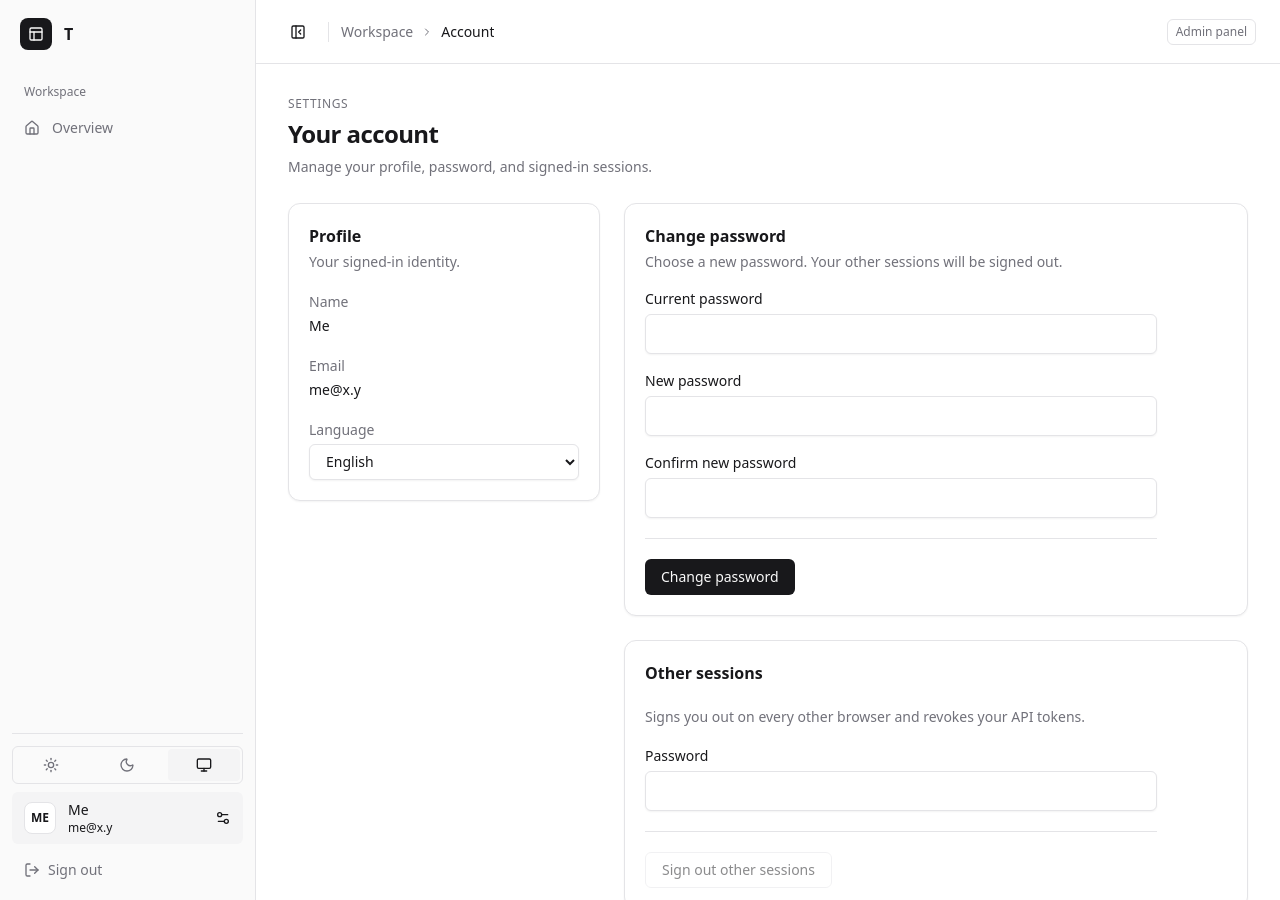
it: a 401 for a request sent before a password change does not sign the tab out
This screenshot has width=1280, height=900.
Type "old password" into the password field labelled "Current password".
click(901, 334); type("old password")  # box [645,314,1157,354]
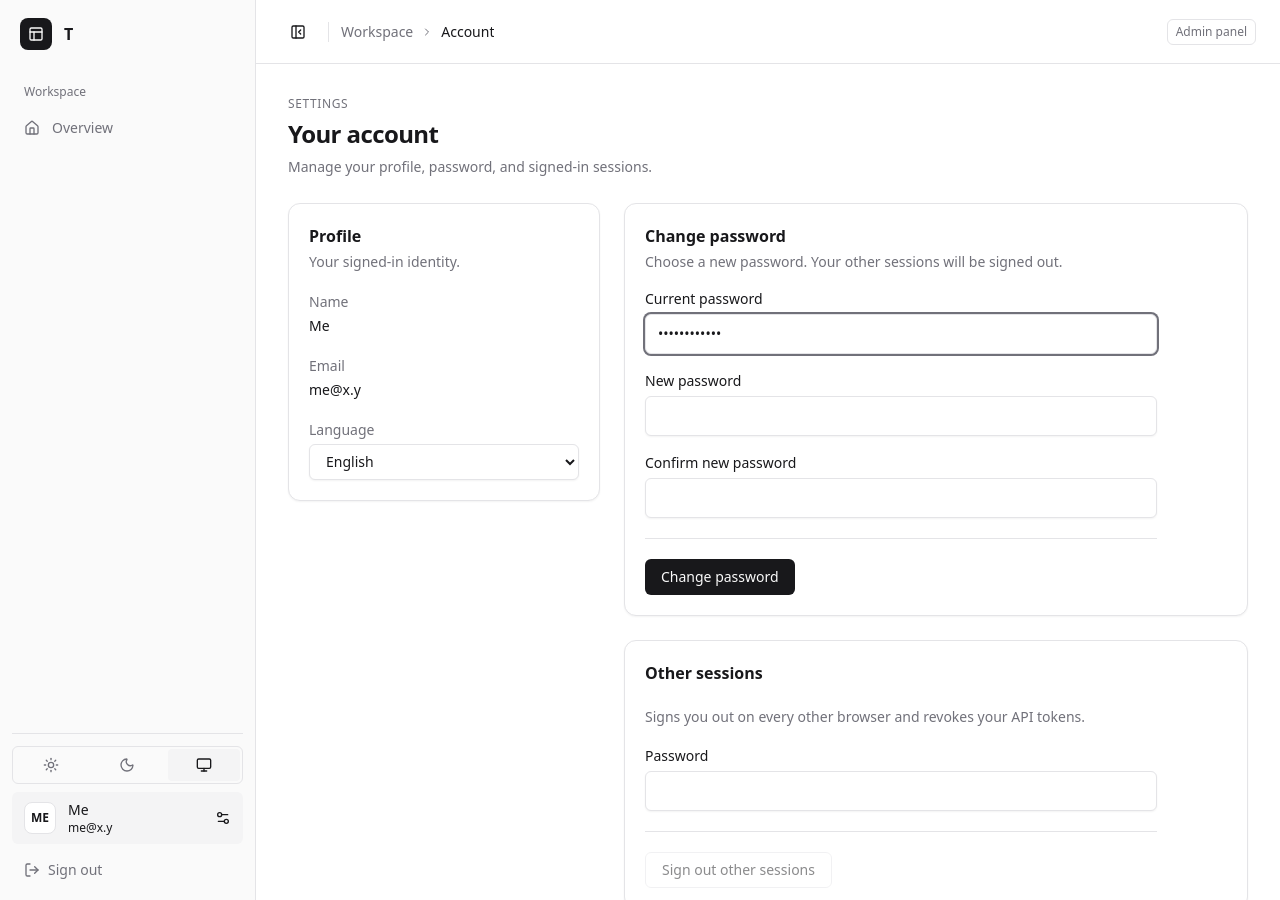
Type "a new password" into the password field labelled "New password".
click(901, 416); type("a new password")  # box [645,396,1157,436]
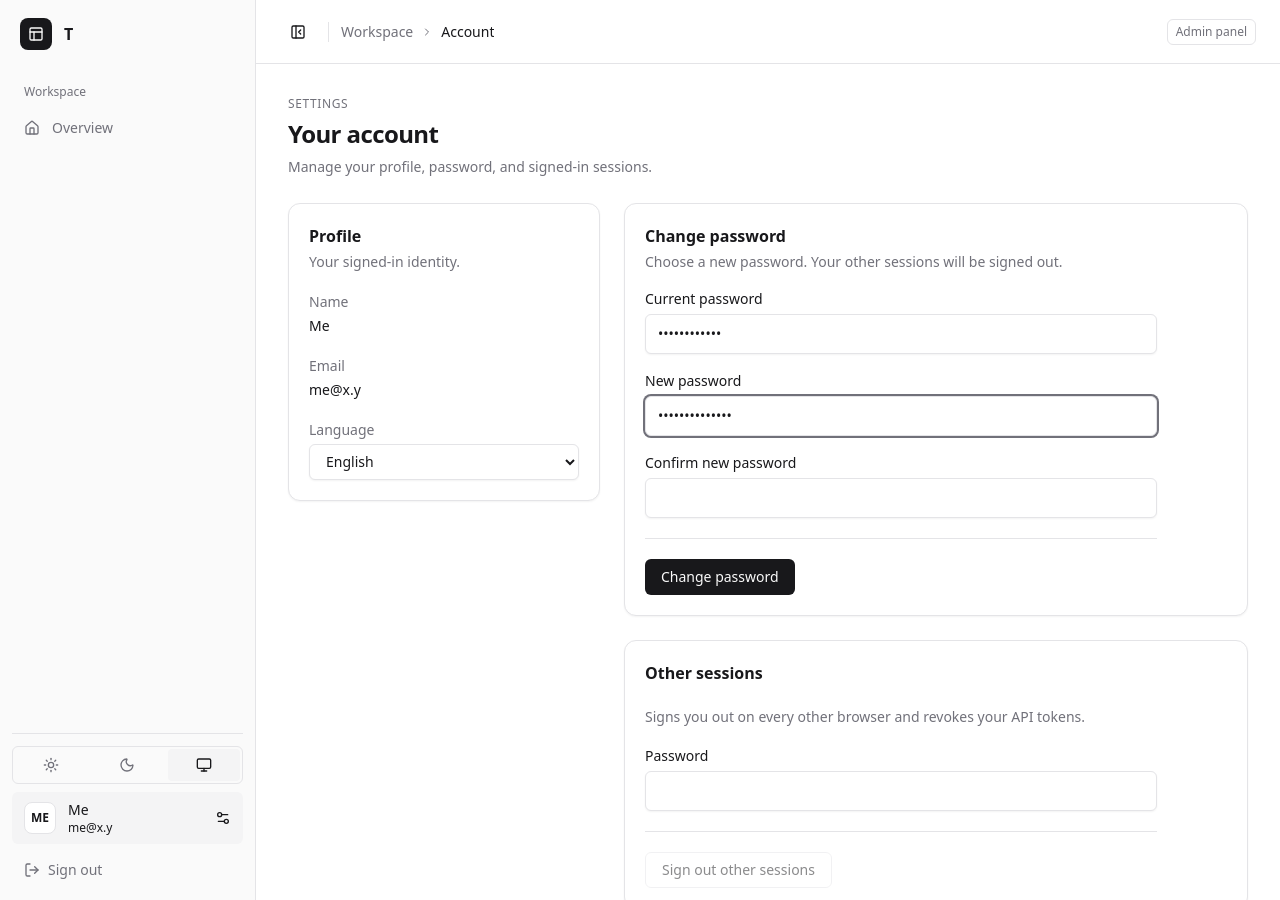
Type "a new password" into the password field labelled "Confirm new password".
click(901, 498); type("a new password")  # box [645,478,1157,518]
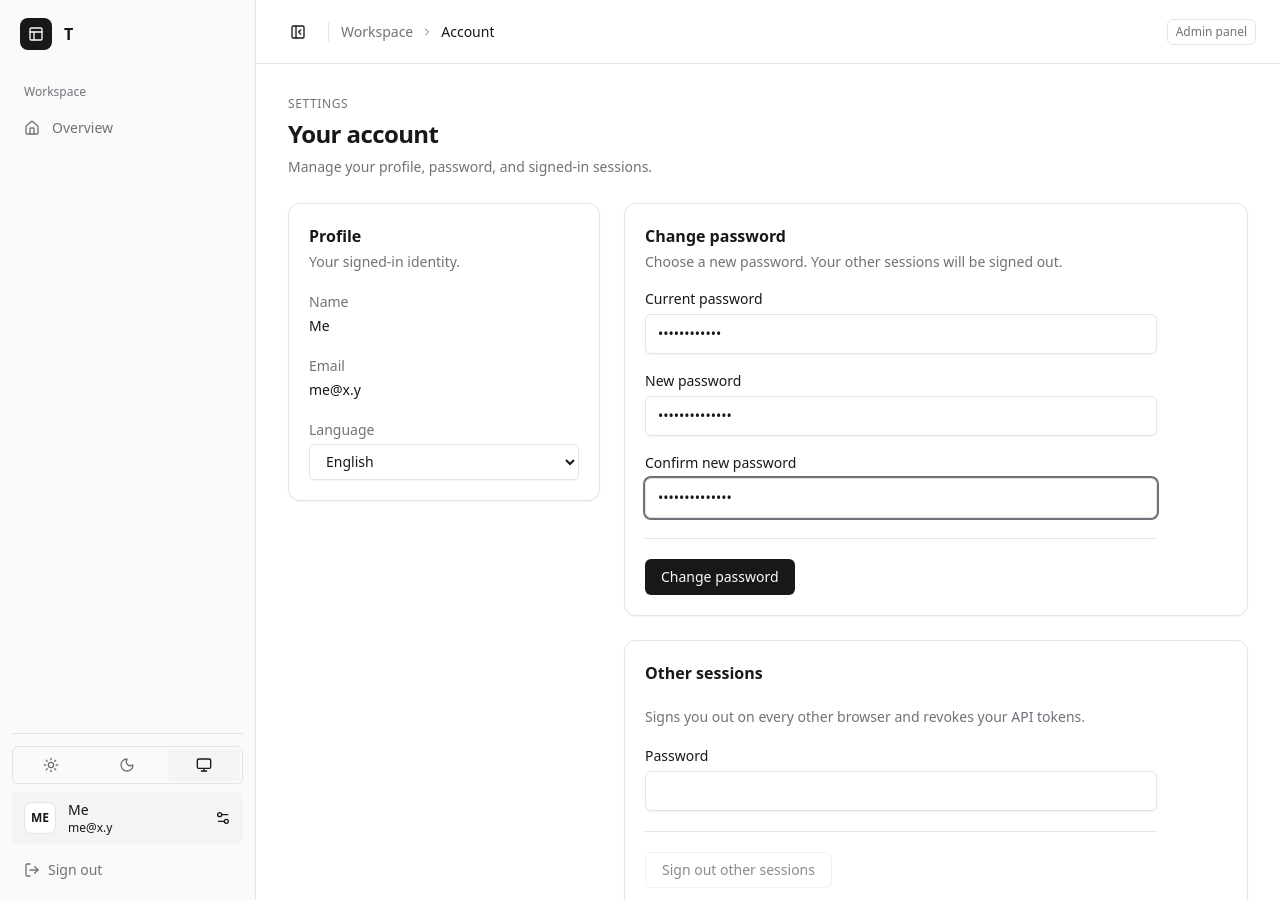
Click the button "Change password".
click(720, 577)  # box [645,559,795,595]
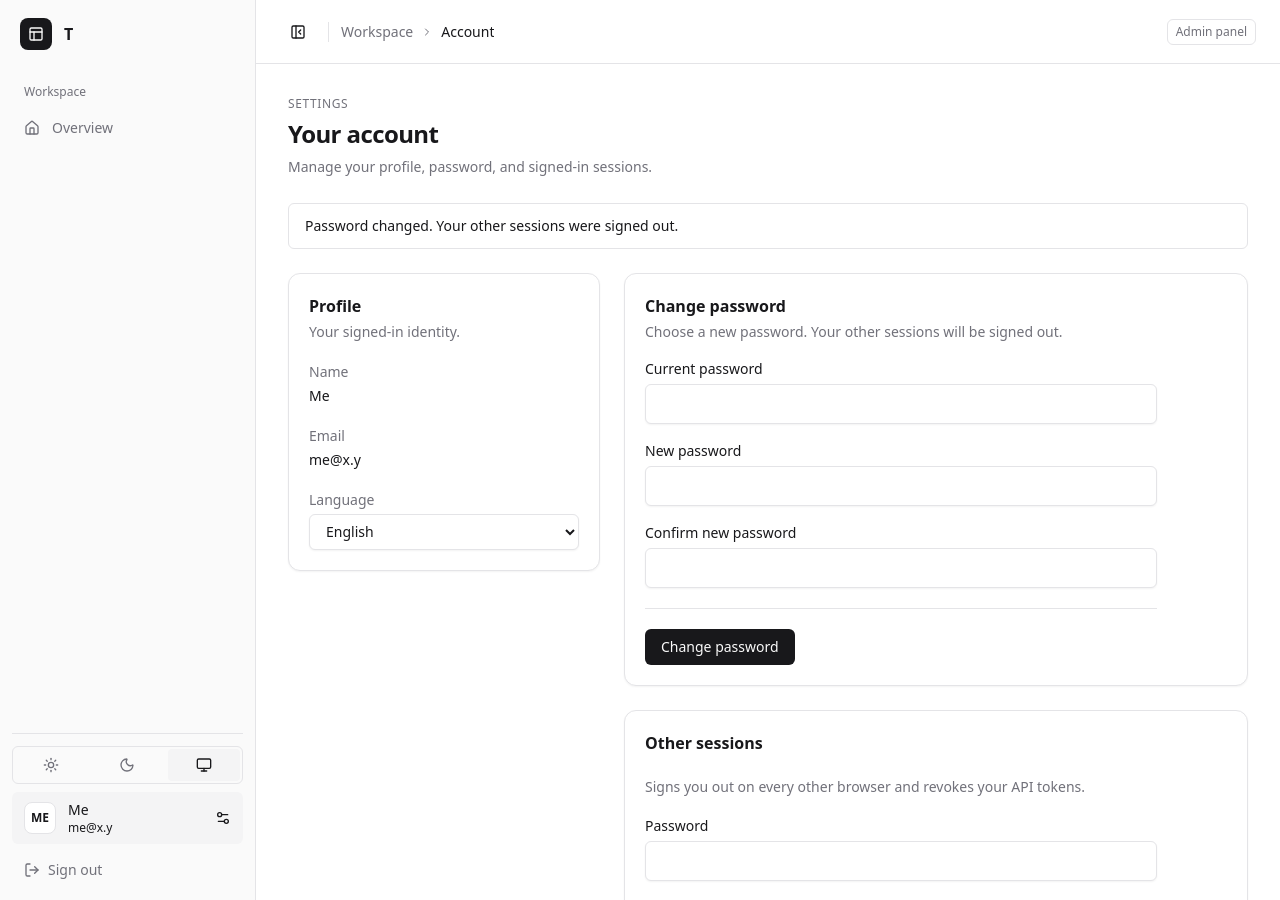
Expected: the text "Password changed. Your other sessions were signed out." is shown, [288,203,1248,249]
